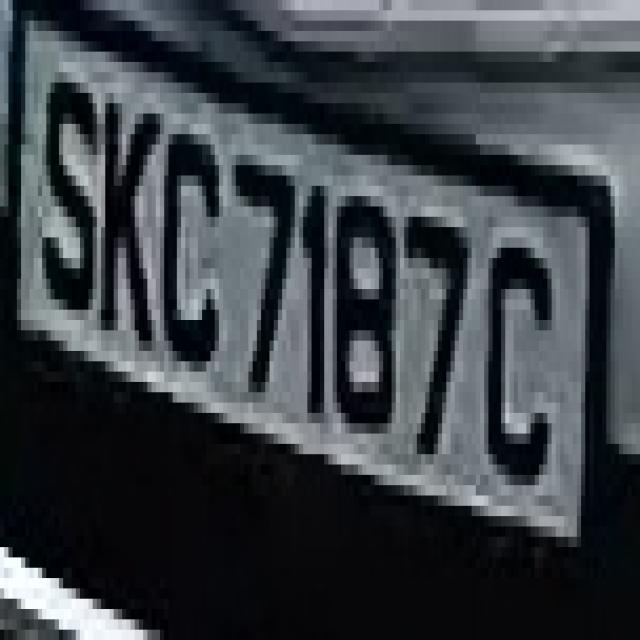1: (295, 124, 341, 454)
7: (400, 186, 467, 516), (228, 134, 290, 444)
8: (332, 186, 408, 485)
C: (480, 206, 556, 537), (168, 82, 228, 402)
K: (97, 62, 160, 392)
S: (34, 52, 97, 361)
